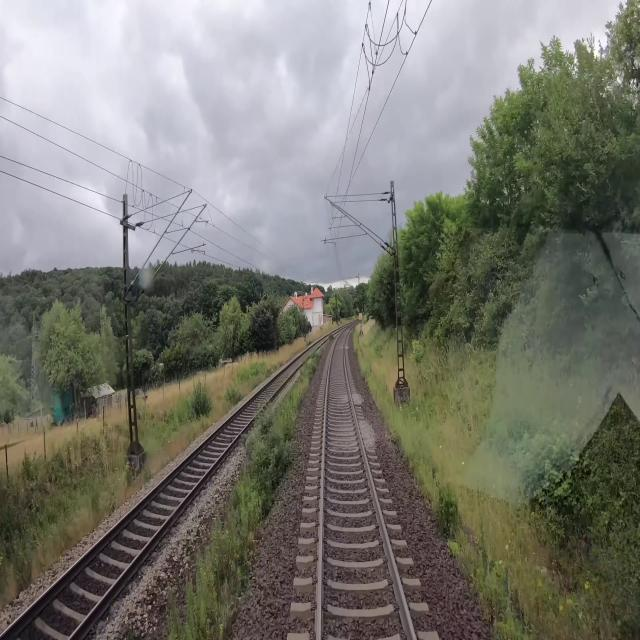Plant: (164, 345, 327, 639)
